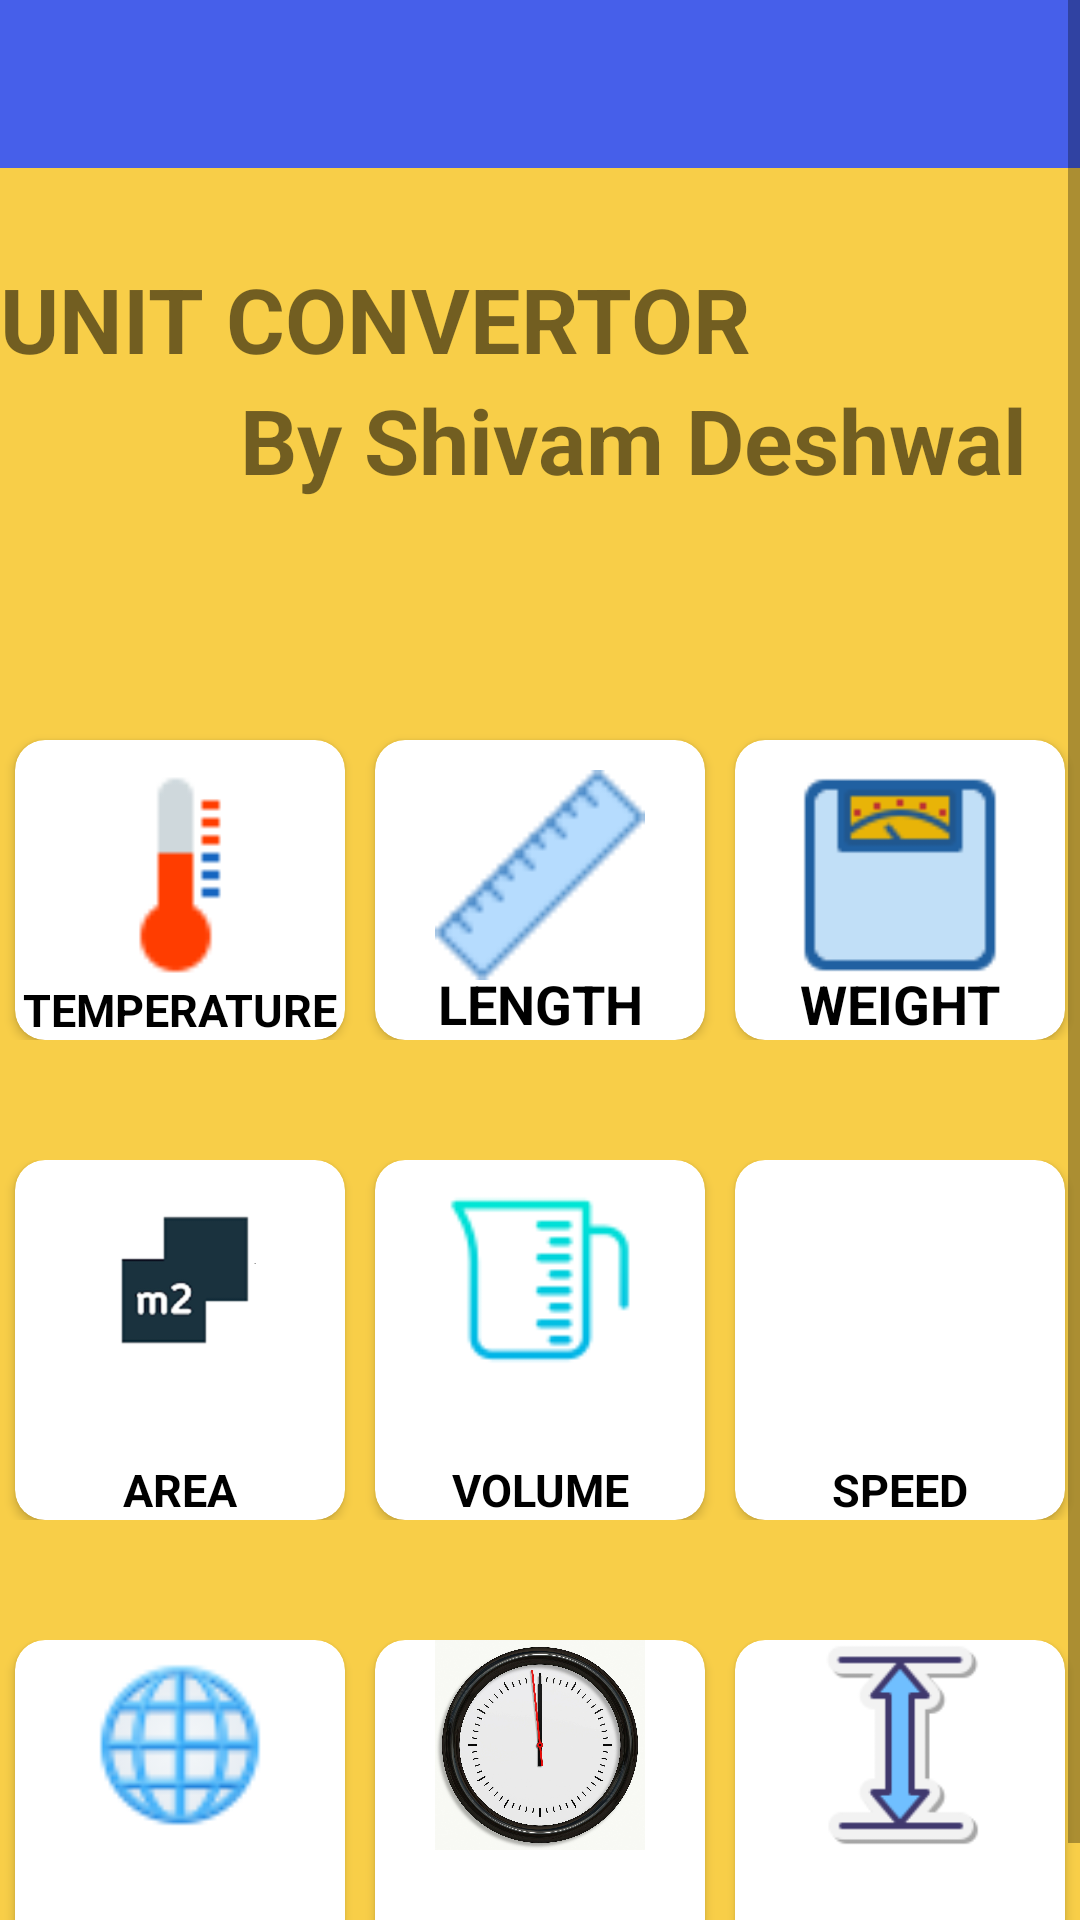

Point at icon controls on the screen. Image size 1080px×1920px, points as point (x, y).
height: point (900, 1745)
time: point (540, 1745)
